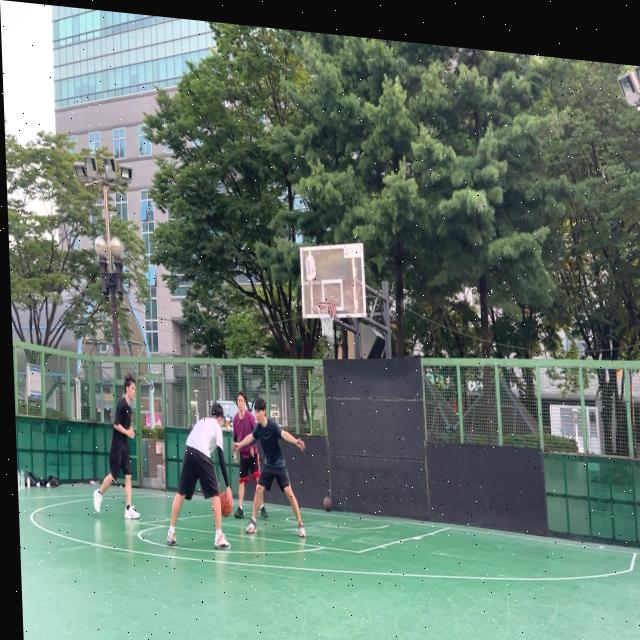basketball: (219, 490, 233, 519), (322, 495, 333, 513)
hoop: (316, 301, 337, 339)
